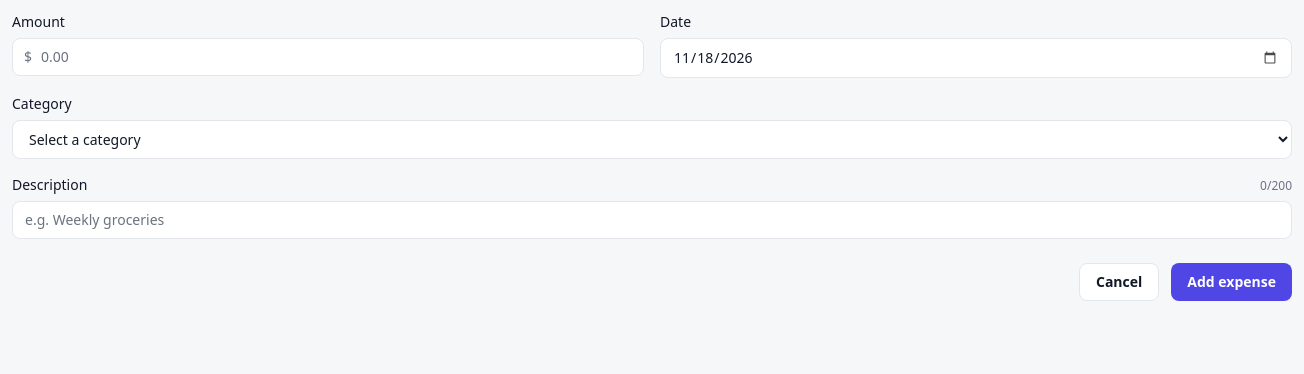
Scenario: ExpenseForm › keeps the user's input and shows the message when saving fails
Type "10" into the field labelled "Amount" at x=328, y=57, box [12, 38, 644, 76]
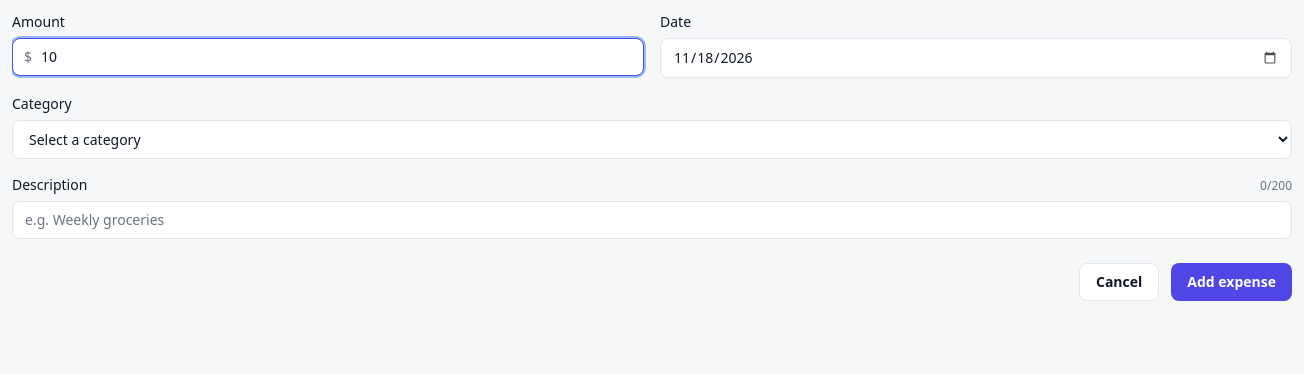
Select "Food" in the dropdown labelled "Category" at x=652, y=140, box [12, 120, 1292, 159]
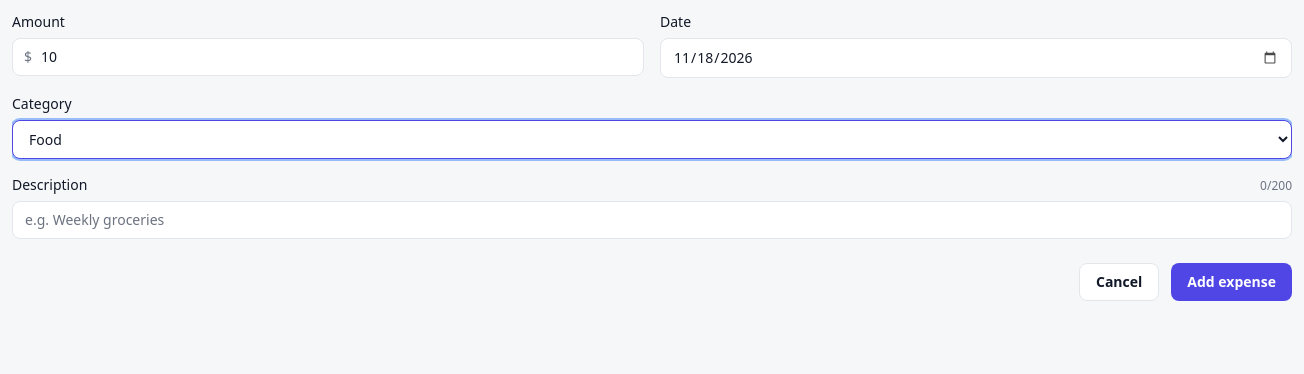
Type "Snacks" into the field labelled "Description" at x=652, y=220, box [12, 201, 1292, 239]
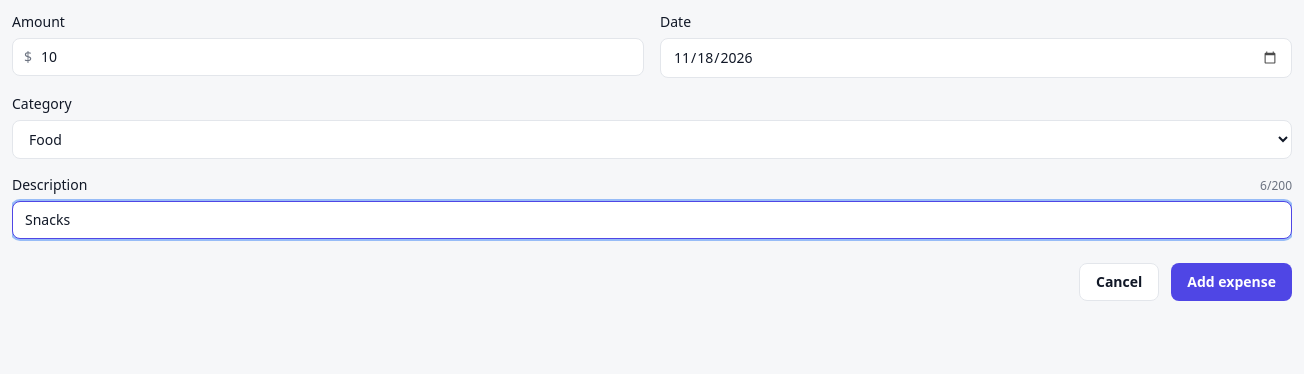
Click the button "Add expense" at x=1232, y=282, box [1171, 263, 1292, 301]
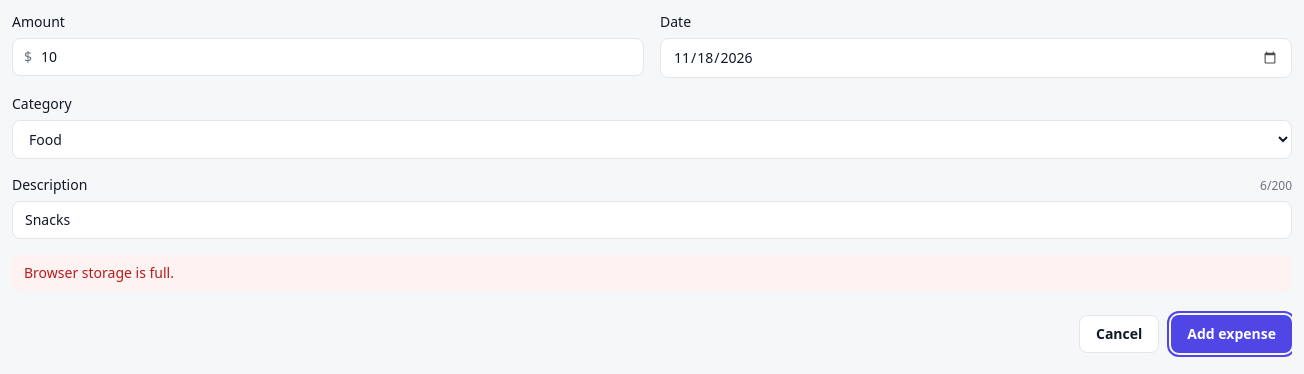
Expected: the button "Add expense" is enabled, [1171, 315, 1292, 353]
Expected: the message reads "Browser storage is full.", [24, 263, 174, 282]
